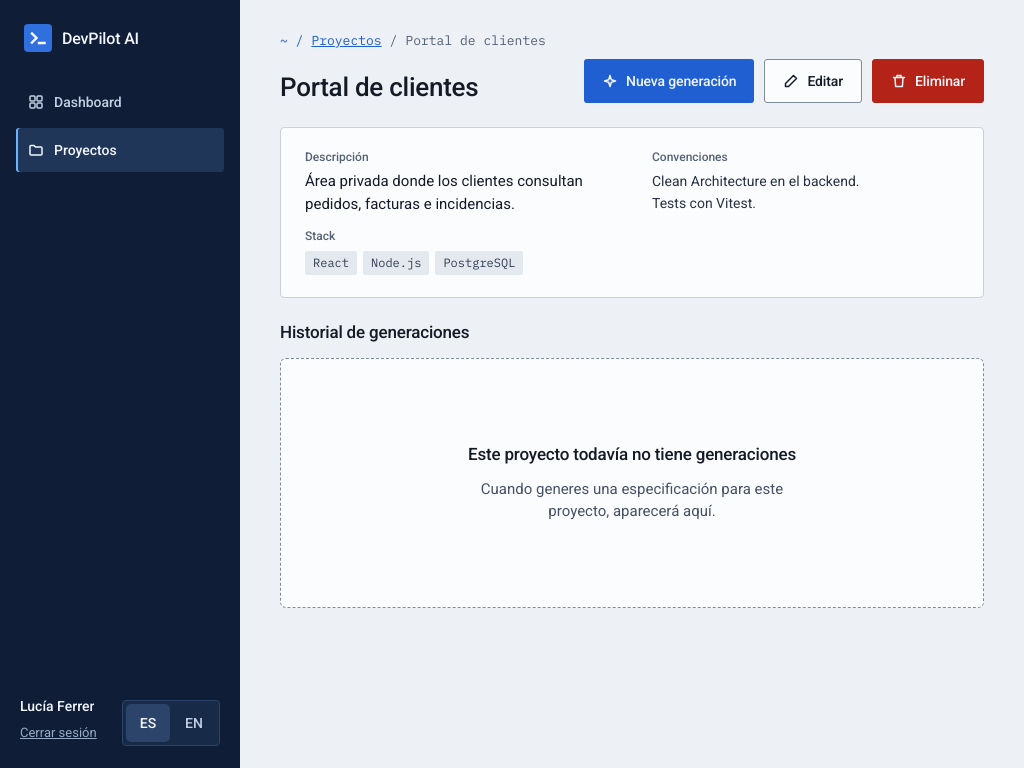
Test: deleting a project › asks for confirmation and warns that its generations are deleted too
The width and height of the screenshot is (1024, 768).
Click the button "Eliminar".
click(928, 81)  # box [872,59,984,103]
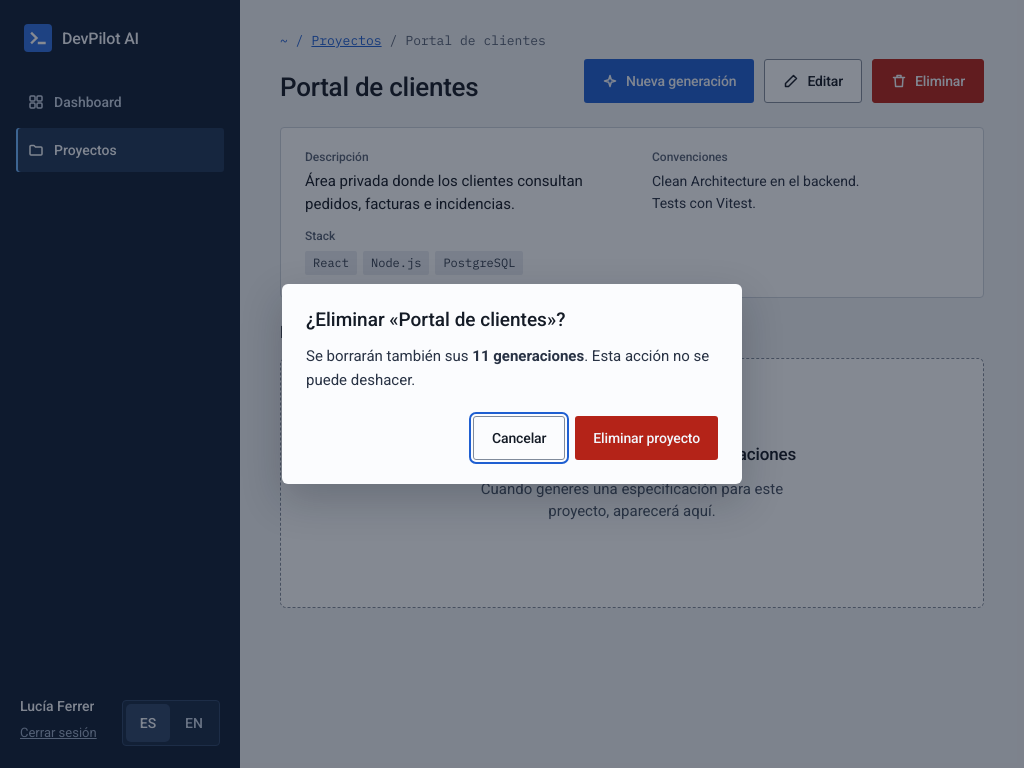
Expected: the dialog "¿Eliminar «Portal de clientes»?" shows "Se borrarán también sus 11 generaciones. Esta acción no se puede deshacer.", [282,284,742,484]
